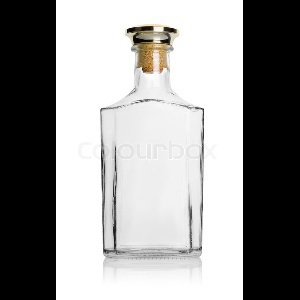emptybottle: (100, 25, 204, 258)
